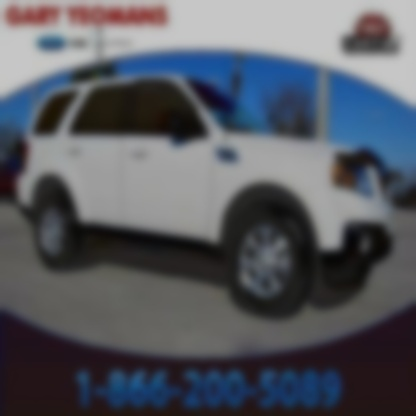Vehicle: (18, 74, 396, 321)
